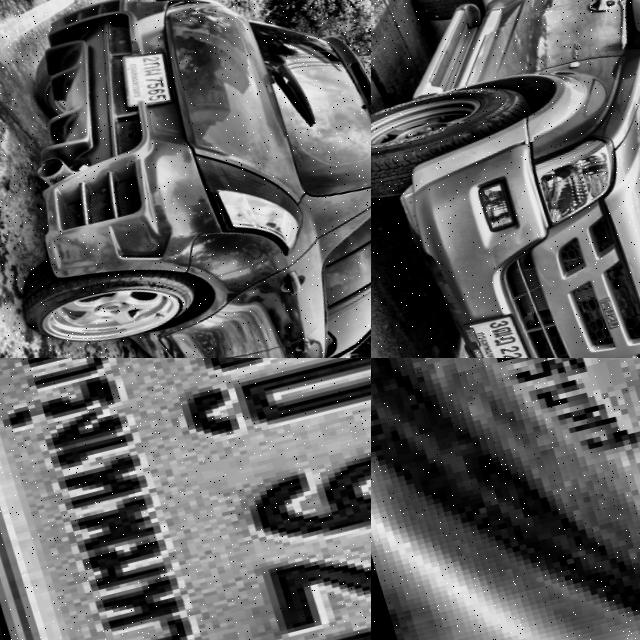license-plate: (0, 358, 371, 640), (371, 358, 640, 640), (111, 44, 181, 112), (448, 306, 535, 358)
